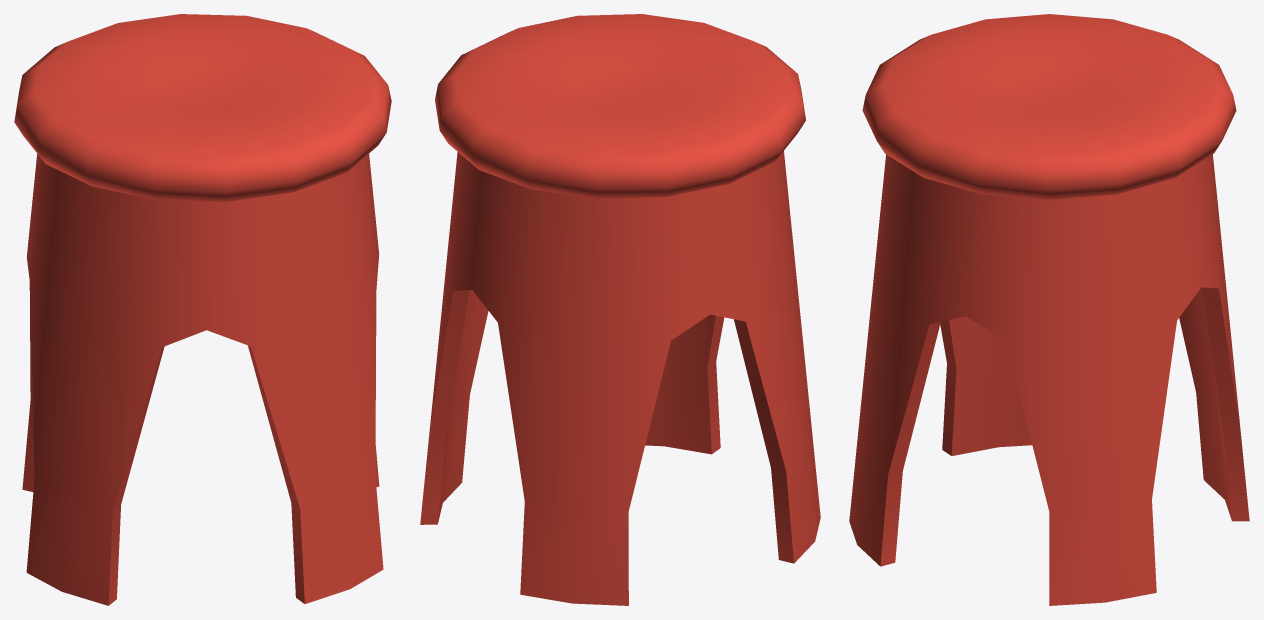
The model's file is prop_stool.glb.
The picture shows the model from 3 angles, left to right: view 1: azimuth 30°, elevation 25°; view 2: azimuth 150°, elevation 25°; view 3: azimuth 270°, elevation 25°; orthographic projection.
Visible parts, largest first — view 1: prop_stool; view 2: prop_stool; view 3: prop_stool.
Part boxes in pixels (left/top/right/bottom): prop_stool: left=14, top=14, right=391, bottom=605; prop_stool: left=420, top=14, right=820, bottom=605; prop_stool: left=849, top=14, right=1249, bottom=605.
Bounding box in the file's own units: 0.364 × 0.441 × 0.364.
